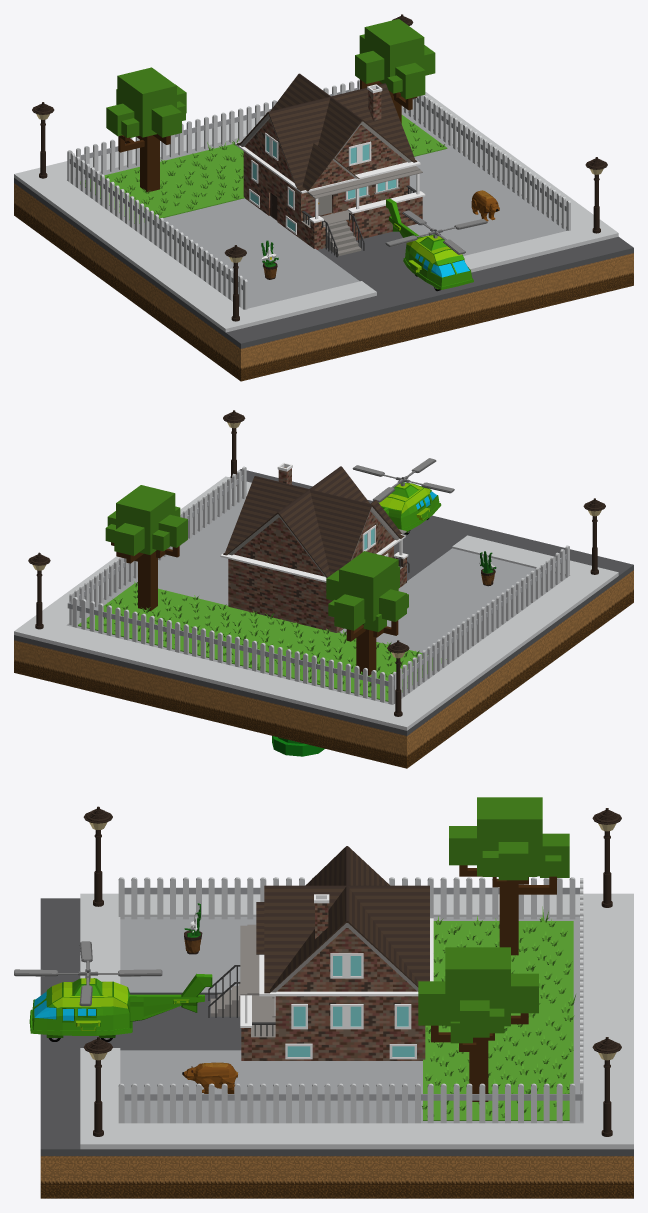
3 views of the same model, one above another, from view 1: azimuth 30°, elevation 25°; view 2: azimuth 150°, elevation 25°; view 3: azimuth 270°, elevation 25° (orthographic). The views are drawn at different scales.
Parts seen in each view (by area): view 1: Cube.004, Cube.117, VEHICLES_HELICOPTER, ANIMAL_OSO; view 2: Cube.004, Cube.117, VEHICLES_HELICOPTER, UNDERGROUND_PIPES; view 3: Cube.004, Cube.117, VEHICLES_HELICOPTER, ANIMAL_OSO, OBJRANDOM_MONJA BLANCA.
Boxes of the visible parts, <box> form: Cube.004: <box>14,14,633,381</box>; Cube.117: <box>235,73,425,257</box>; VEHICLES_HELICOPTER: <box>385,198,487,291</box>; ANIMAL_OSO: <box>471,190,499,221</box>; Cube.004: <box>14,410,633,768</box>; Cube.117: <box>220,462,409,632</box>; VEHICLES_HELICOPTER: <box>352,458,454,534</box>; UNDERGROUND_PIPES: <box>272,736,324,756</box>; Cube.004: <box>40,797,633,1198</box>; Cube.117: <box>208,846,433,1060</box>; VEHICLES_HELICOPTER: <box>14,941,212,1041</box>; ANIMAL_OSO: <box>182,1062,237,1093</box>; OBJRANDOM_MONJA BLANCA: <box>184,903,202,954</box>.
Size of the model in its own units: 4000 by 2184 by 4179.
35 materials, 4 textured.
